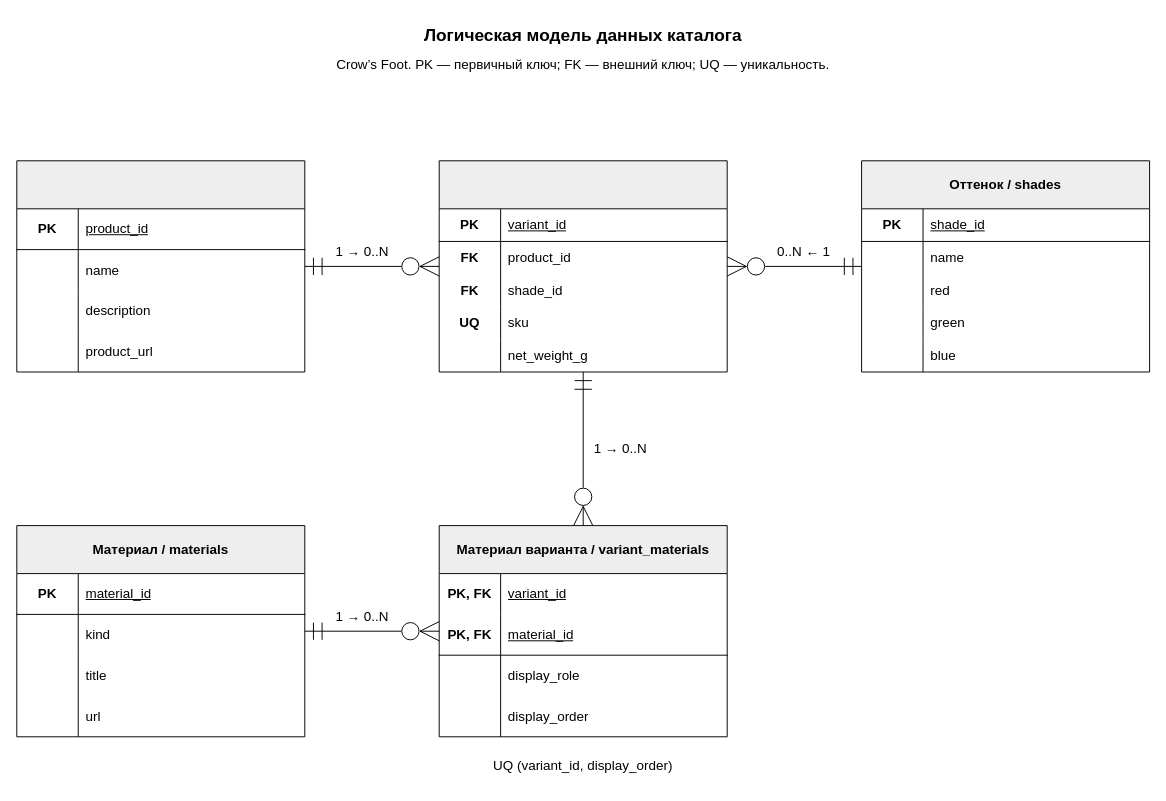
This 1166x801 diagram has some shape labels left out. The box of each missing label's shape, as (x1, y1, x2, y2) in pixels:
Вариант товара / variants: (438, 160, 727, 372)
Товар / products: (16, 160, 305, 372)
